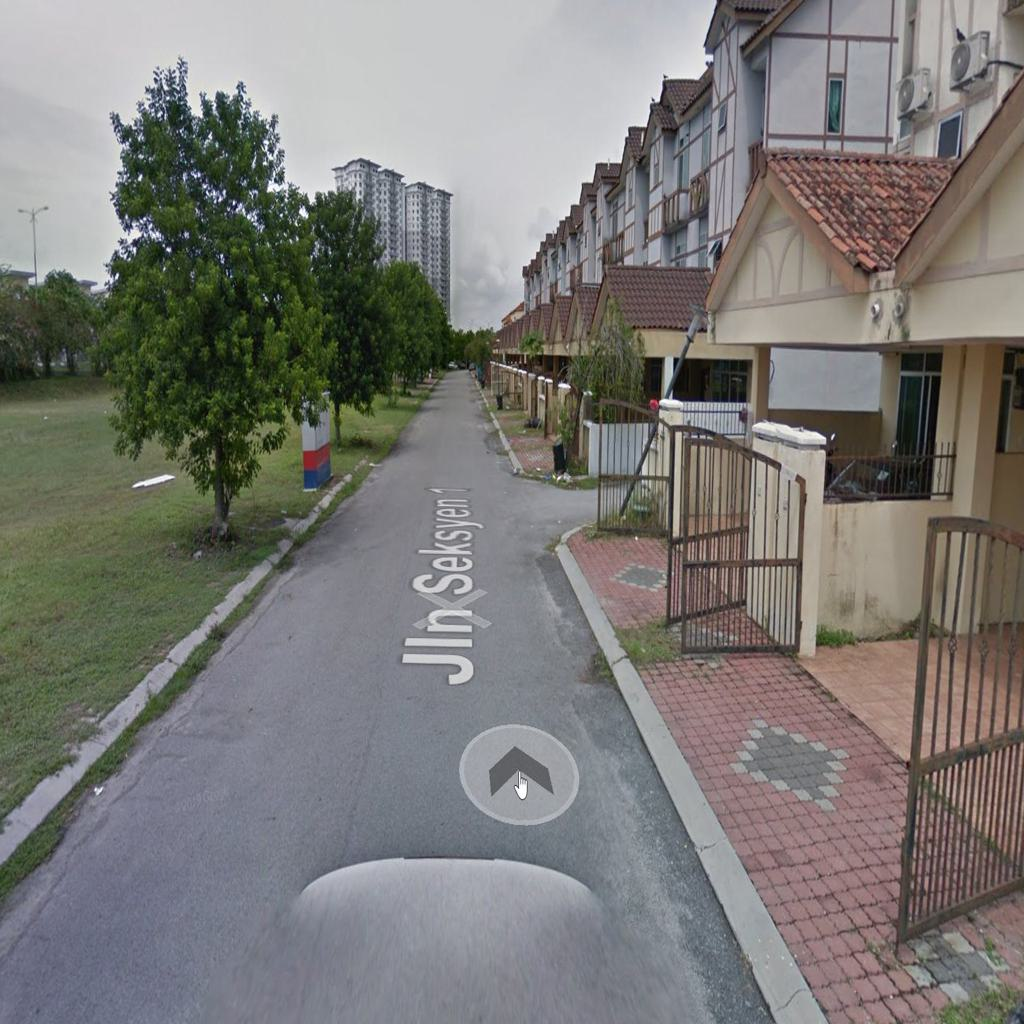Junction: (489, 465, 638, 551)
